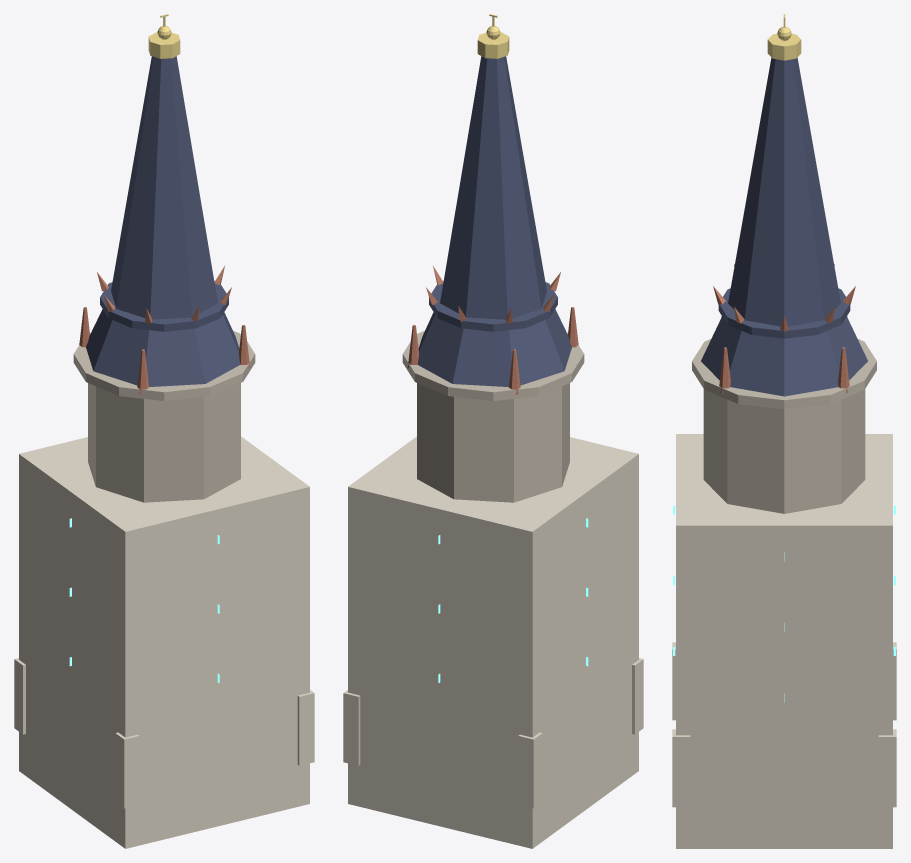
File: church_spire_v19.glb
The picture shows the model from 3 angles, left to right: view 1: azimuth 30°, elevation 25°; view 2: azimuth 150°, elevation 25°; view 3: azimuth 270°, elevation 25°; orthographic projection.
Visible parts, largest first — view 1: Cube, Cone.001, Cylinder, Cone, V19_CorniceBelt, V19_LanternCollar, Cube.001, Cube.002, Cube.003, Cylinder.001; view 2: Cube, Cone.001, Cylinder, Cone, V19_CorniceBelt, V19_LanternCollar, Cube.003, Cube.004, Cube.001, Cylinder.001; view 3: Cube, Cone.001, Cylinder, Cone, V19_CorniceBelt, V19_LanternCollar, Cube.002, Cube.004, Cylinder.001.
Boxes of the visible parts, <box> form: Cube: <box>19,436,309,848</box>; Cone.001: <box>111,56,217,319</box>; Cylinder: <box>88,383,240,502</box>; Cone: <box>86,309,240,386</box>; V19_CorniceBelt: <box>73,330,255,401</box>; V19_LanternCollar: <box>100,281,228,331</box>; Cube.001: <box>115,732,139,808</box>; Cube.002: <box>297,690,314,765</box>; Cube.003: <box>14,658,25,734</box>; Cylinder.001: <box>148,32,180,58</box>; Cube: <box>348,436,638,848</box>; Cone.001: <box>440,56,546,319</box>; Cylinder: <box>417,383,569,502</box>; Cone: <box>417,309,571,386</box>; V19_CorniceBelt: <box>402,330,584,401</box>; V19_LanternCollar: <box>429,281,557,331</box>; Cube.003: <box>518,732,542,808</box>; Cube.004: <box>343,690,360,765</box>; Cube.001: <box>632,658,643,734</box>; Cylinder.001: <box>477,32,509,58</box>; Cube: <box>676,434,892,848</box>; Cone.001: <box>728,57,840,326</box>; Cylinder: <box>703,389,865,513</box>; Cone: <box>701,316,867,396</box>; V19_CorniceBelt: <box>692,339,876,409</box>; V19_LanternCollar: <box>718,288,850,338</box>; Cube.002: <box>672,729,690,807</box>; Cube.004: <box>878,729,896,807</box>; Cylinder.001: <box>767,33,801,60</box>.
Bounding box in the file's own units: 4.02 × 15.59 × 4.02.
